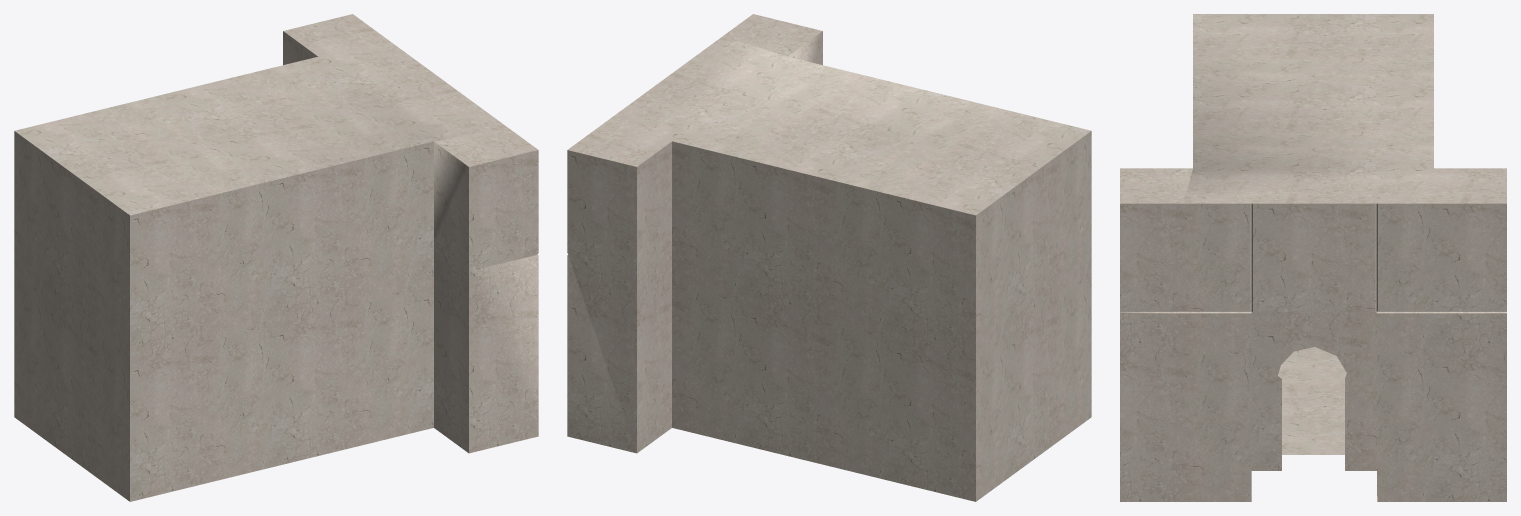
File: pasted__marble_tile_182.fbx
3 views of the same model, side by side, from view 1: azimuth 30°, elevation 25°; view 2: azimuth 150°, elevation 25°; view 3: azimuth 270°, elevation 25° (orthographic). The views are drawn at different scales.
Visible parts, largest first — view 1: pasted__marble_tile_182; view 2: pasted__marble_tile_182; view 3: pasted__marble_tile_182.
Boxes of the visible parts, <box> form: pasted__marble_tile_182: <box>14,14,538,501</box>; pasted__marble_tile_182: <box>567,14,1091,501</box>; pasted__marble_tile_182: <box>1120,14,1506,501</box>.
Size of the model in its own units: 899 by 775 by 659.
